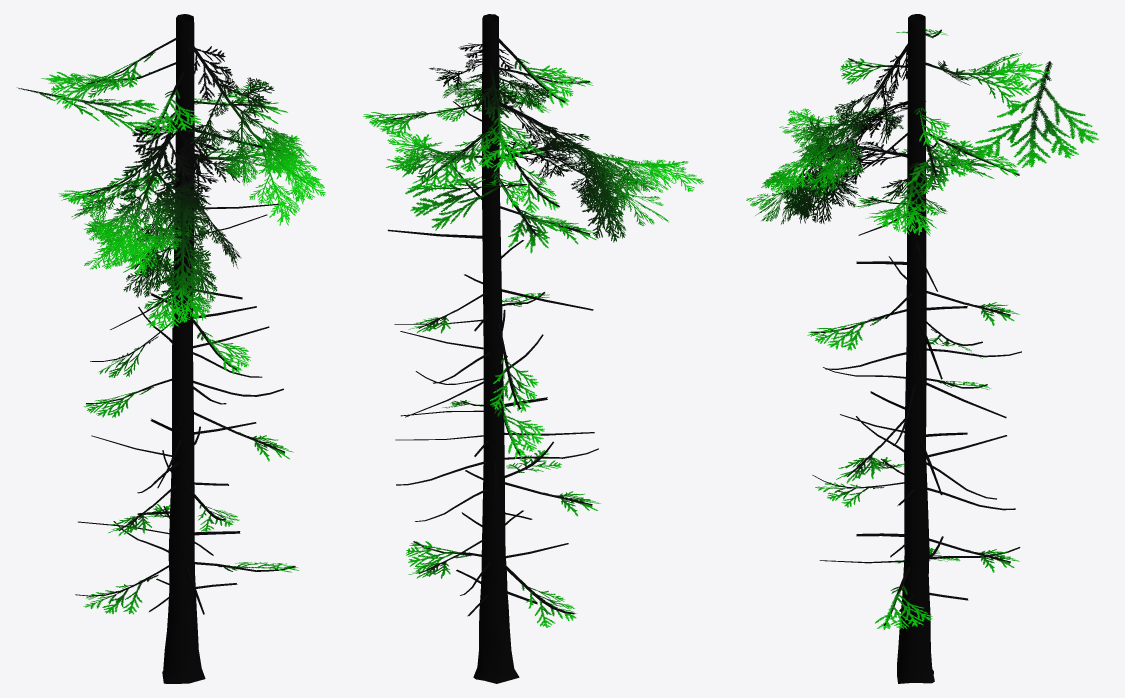
File: half_spruce_A.fbx
The picture shows the model from 3 angles, left to right: view 1: azimuth 30°, elevation 25°; view 2: azimuth 150°, elevation 25°; view 3: azimuth 270°, elevation 25°; orthographic projection.
Visible parts, largest first — view 1: SpruceTreeA; view 2: SpruceTreeA; view 3: SpruceTreeA.
Boxes of the visible parts, x1,y1,x2,y2 form: SpruceTreeA: (17,14,325,683); SpruceTreeA: (363,14,703,683); SpruceTreeA: (746,14,1098,683).
Bounding box in the file's own units: 279 × 634 × 323.
